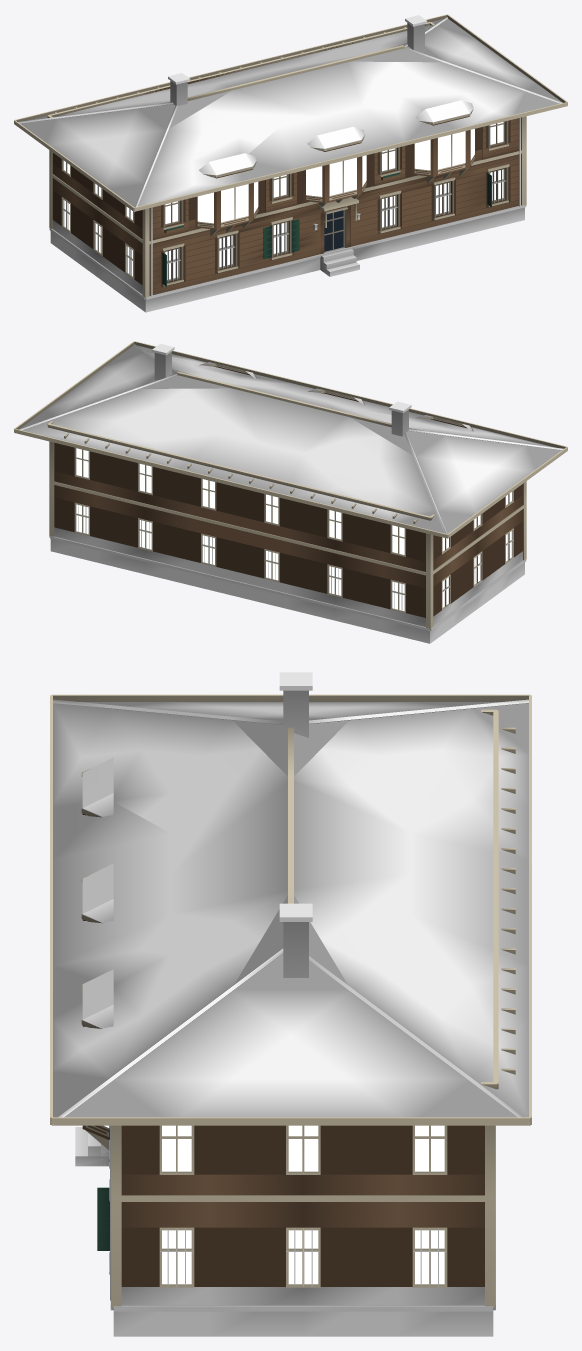
Rendered from bld_yali_b.glb.
3 views of the same model, one above another, from view 1: azimuth 30°, elevation 25°; view 2: azimuth 150°, elevation 25°; view 3: azimuth 270°, elevation 25° (orthographic). The views are drawn at different scales.
Visible parts, largest first — view 1: LOD0; view 2: LOD0; view 3: LOD0.
Part boxes in pixels (<box>): LOD0: <box>14,14,567,312</box>; LOD0: <box>14,341,567,643</box>; LOD0: <box>50,672,531,1336</box>.
Size of what is drawn, in the model's own units: 27.5 by 11.02 by 13.22.
